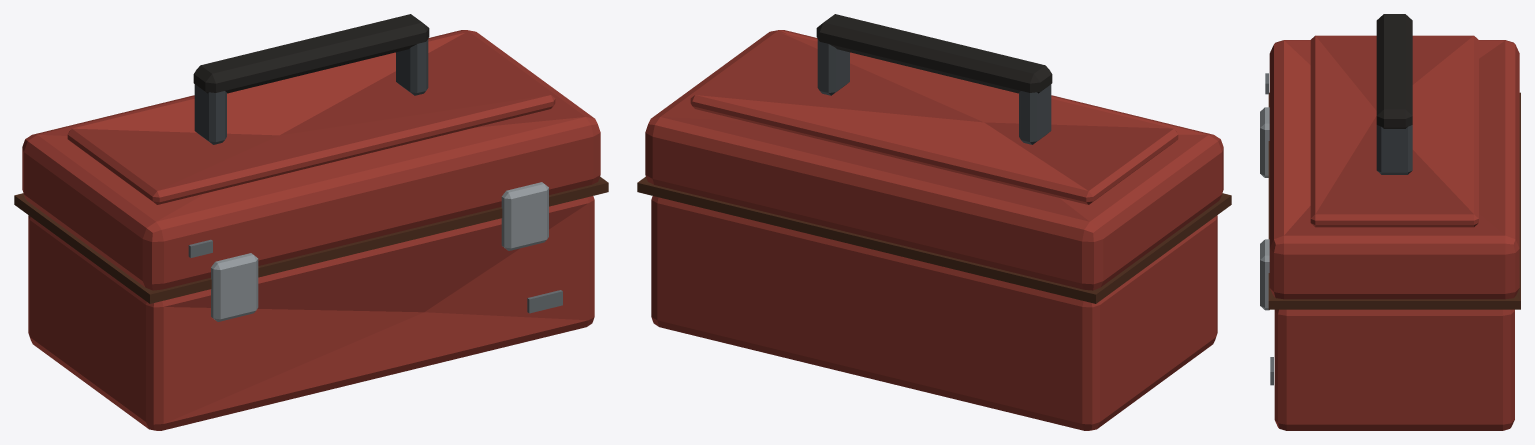
Rendered from toolbox_metallicheskiy_idle.glb.
3 renders of one model, left to right at view 1: azimuth 30°, elevation 25°; view 2: azimuth 150°, elevation 25°; view 3: azimuth 270°, elevation 25°, orthographic. The views are drawn at different scales.
Visible parts, largest first — view 1: toolbox_metallicheskiy_idle; view 2: toolbox_metallicheskiy_idle; view 3: toolbox_metallicheskiy_idle.
Boxes of the visible parts, x1,y1,x2,y2 form: toolbox_metallicheskiy_idle: (14, 14, 608, 430); toolbox_metallicheskiy_idle: (637, 14, 1231, 430); toolbox_metallicheskiy_idle: (1260, 14, 1520, 430).
Bounding box in the file's own units: 0.41 × 0.25 × 0.217.
1 material, 1 textured.
